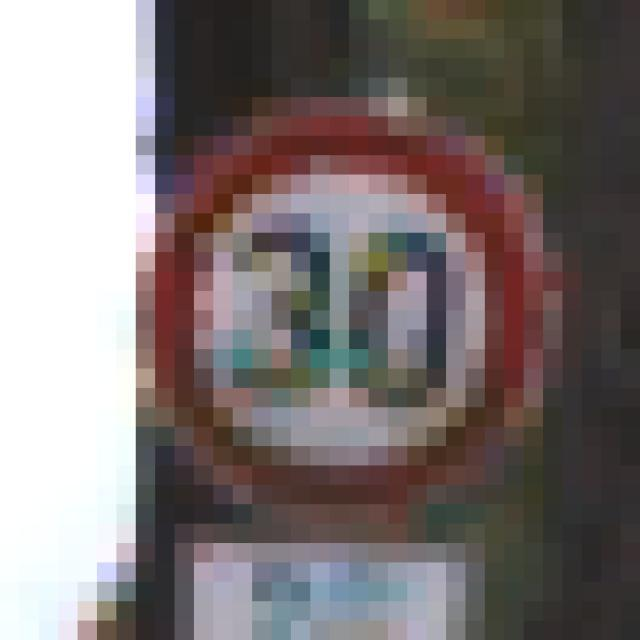Speed Limit -30-: (106, 88, 534, 534)
